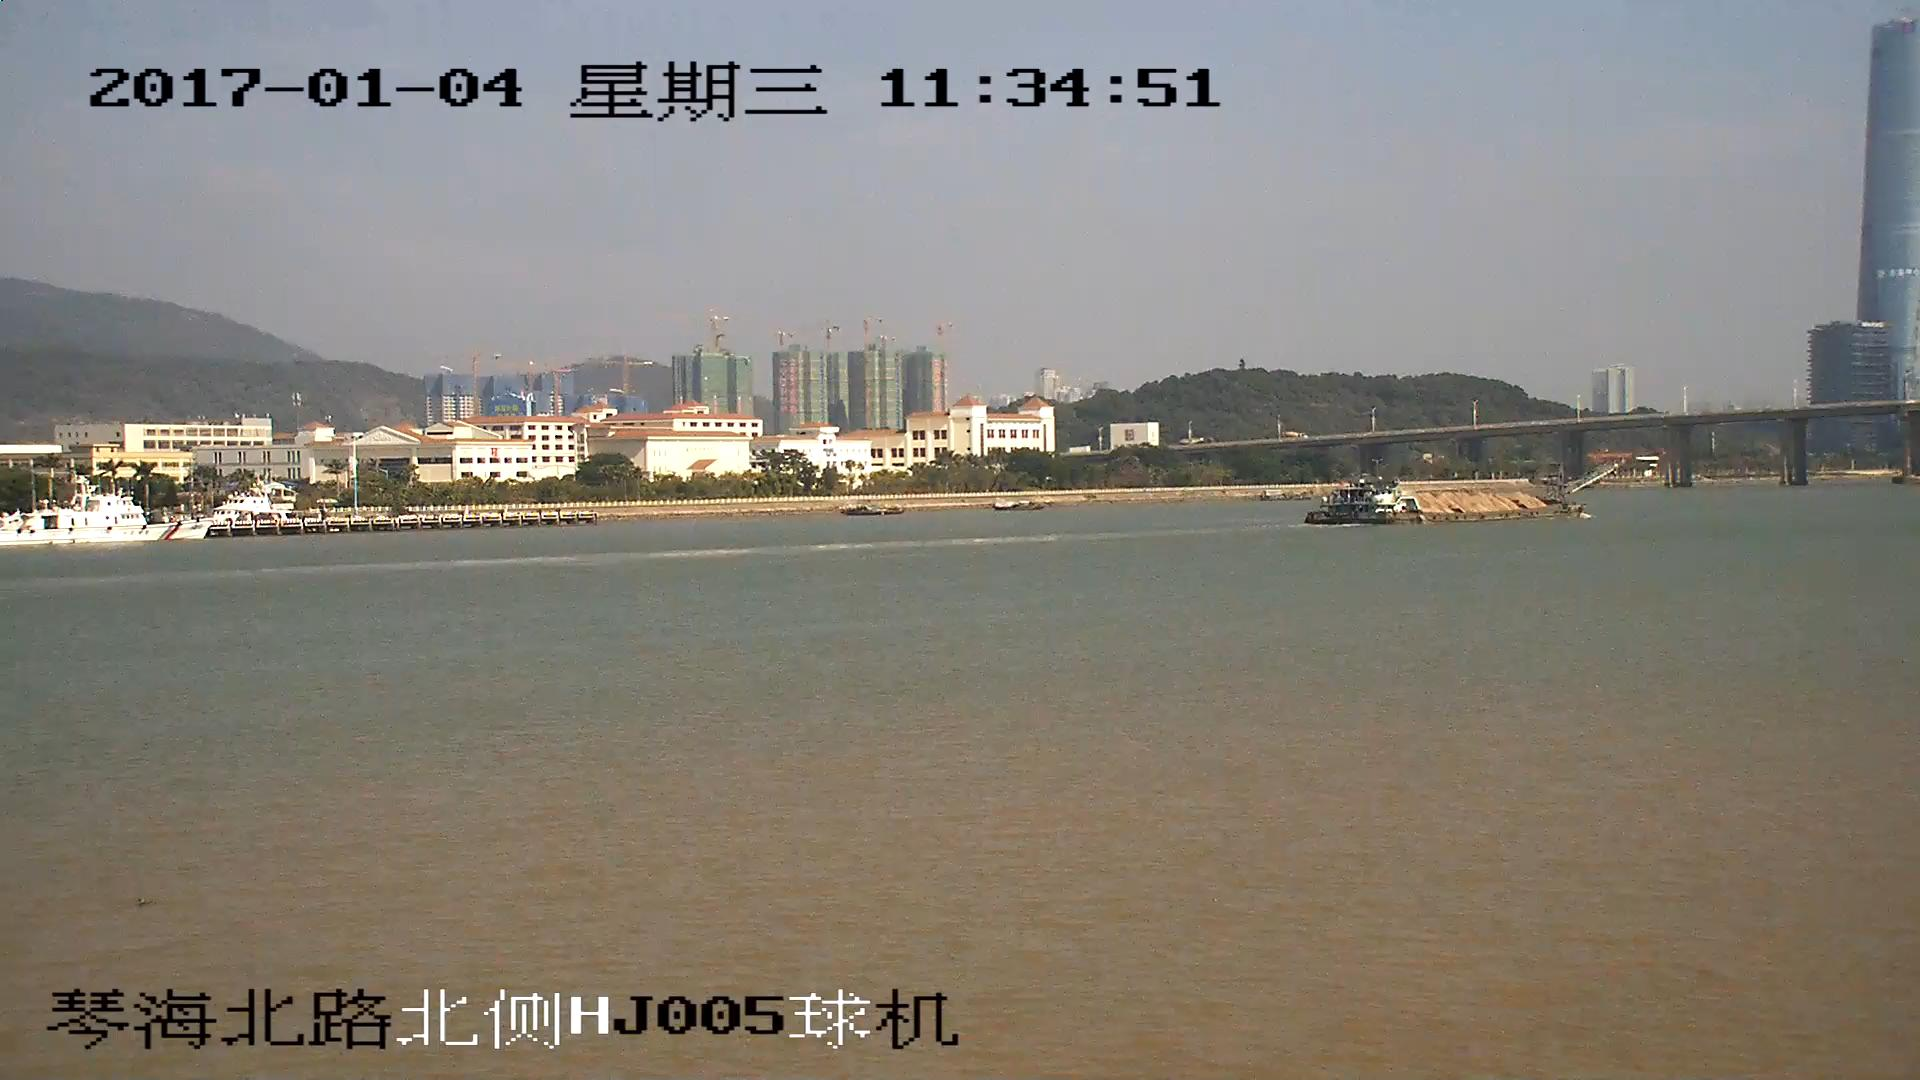ore carrier: (1306, 461, 1620, 525)
